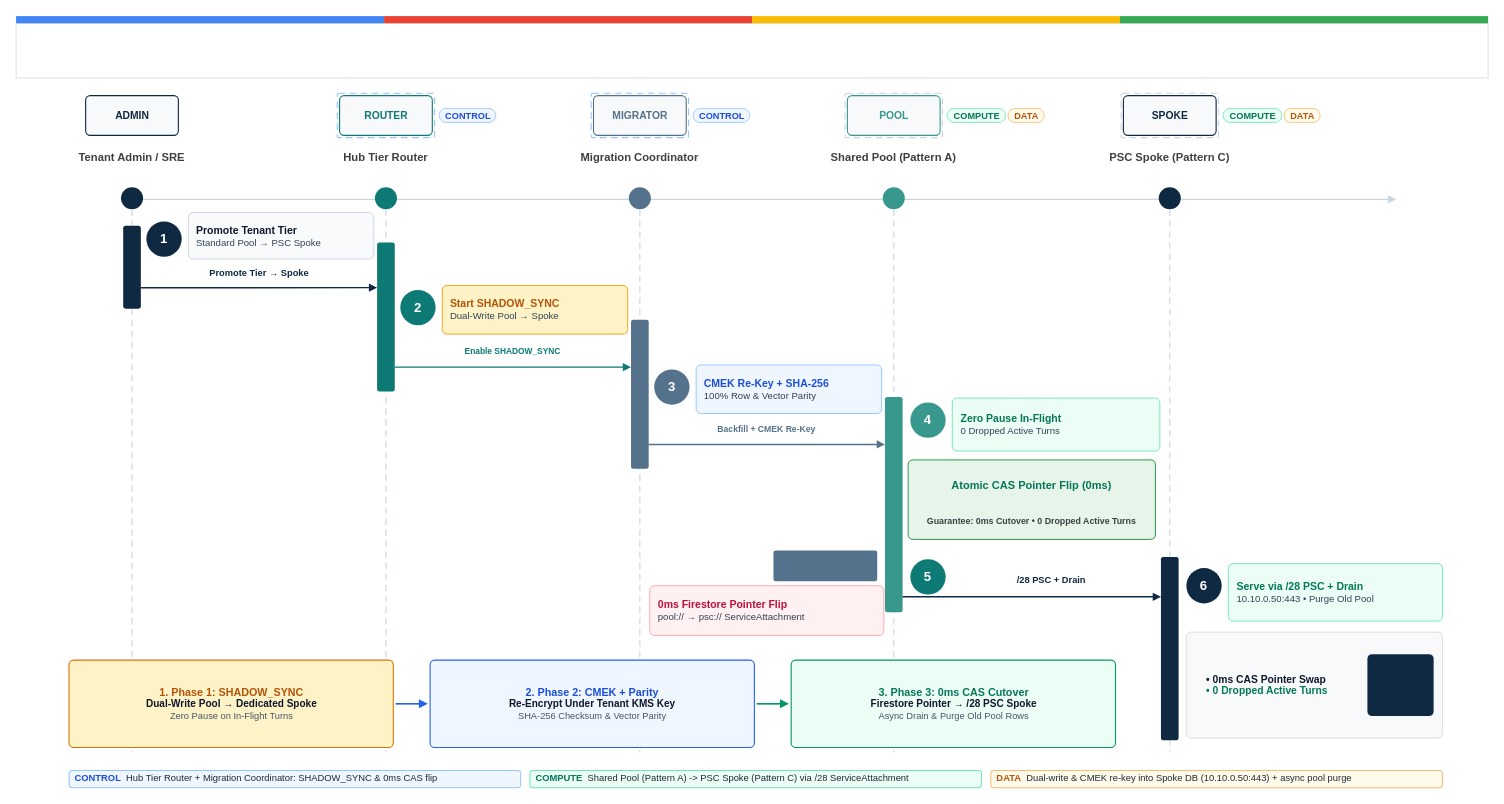
Image size: 1504x804. Some labels were removed from this diagram. Here are the shapes that lost their labels. From the top down, the box of each, then its label:
(15, 22, 1488, 78): WS4 - PART 4 - Pattern C /28 PSC & 0ms Live Tier Promotion
(773, 550, 877, 581): CAS Flip
(1367, 654, 1433, 716): 0ms SWAP
